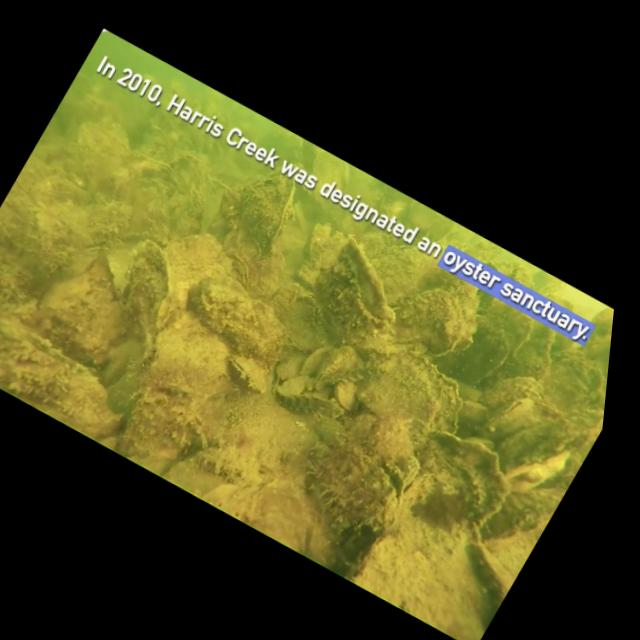Oyster-Closed: (216, 155, 316, 261), (478, 381, 541, 449)
Oyster-Indeterminate: (270, 424, 429, 578), (0, 307, 148, 450), (336, 324, 488, 454), (392, 414, 532, 535), (91, 235, 199, 353), (137, 312, 247, 416), (375, 267, 484, 366), (150, 202, 250, 296), (176, 265, 268, 346), (444, 534, 527, 612), (26, 258, 104, 336), (498, 429, 576, 507), (61, 111, 142, 182), (476, 353, 554, 423), (303, 330, 371, 405), (451, 320, 516, 391), (546, 385, 606, 461), (477, 299, 542, 364), (415, 258, 484, 312), (570, 300, 615, 381), (117, 170, 173, 233), (160, 145, 216, 202), (59, 240, 104, 287), (299, 336, 340, 384), (323, 374, 367, 416), (269, 346, 311, 388), (452, 394, 493, 435), (35, 240, 72, 283), (133, 146, 179, 180), (176, 184, 215, 222)
Oyster-Open: (288, 231, 424, 360), (162, 409, 222, 460), (221, 350, 278, 398), (212, 246, 264, 294), (0, 261, 2, 302)
